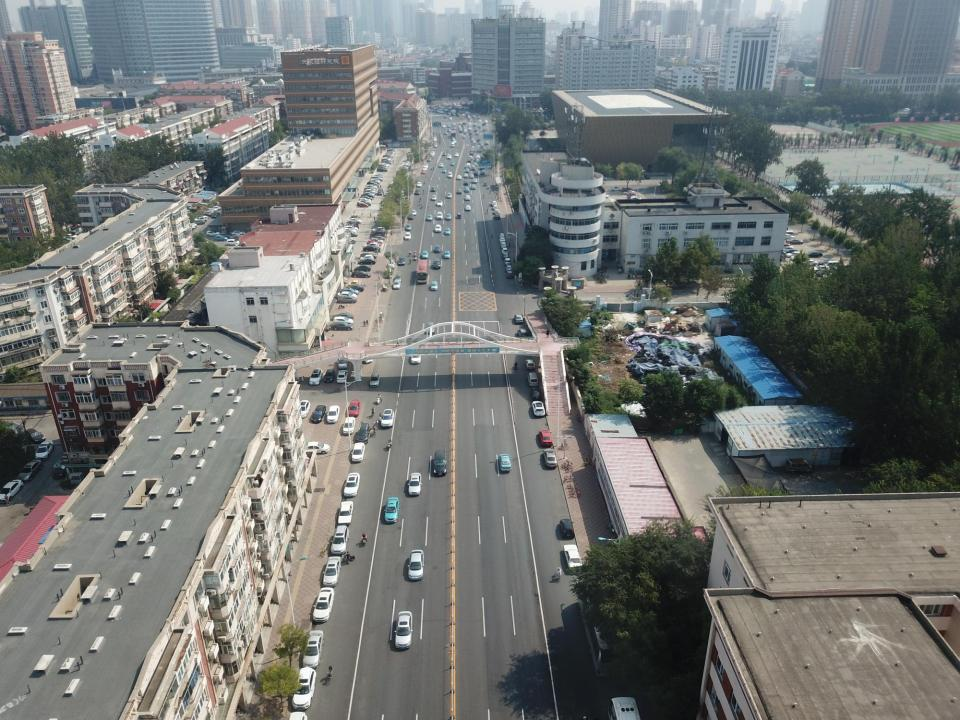bus: (574, 581, 634, 677), (415, 259, 428, 284)
car: (302, 630, 324, 668), (313, 587, 334, 622), (394, 611, 412, 649), (0, 480, 24, 503), (323, 556, 341, 586), (17, 460, 42, 481), (563, 544, 583, 570), (408, 550, 424, 580), (52, 458, 74, 478), (344, 472, 360, 497), (384, 497, 399, 523), (23, 428, 46, 444), (338, 501, 353, 525), (300, 442, 330, 454), (407, 472, 422, 495), (35, 441, 53, 459), (351, 442, 365, 462), (355, 348, 373, 363), (497, 454, 512, 472), (544, 448, 558, 467), (311, 405, 326, 422), (326, 405, 340, 423), (348, 399, 361, 417), (538, 430, 552, 446), (342, 417, 355, 434), (410, 346, 422, 363), (330, 322, 354, 330), (331, 312, 354, 320), (337, 355, 348, 369), (345, 284, 364, 292), (336, 370, 348, 382), (338, 296, 356, 304), (530, 387, 541, 400), (341, 288, 359, 295), (352, 271, 370, 278), (358, 258, 376, 265), (337, 292, 357, 298), (354, 265, 371, 272), (426, 322, 435, 334), (360, 253, 377, 259), (363, 246, 379, 252), (366, 240, 382, 246), (368, 238, 384, 244), (370, 234, 386, 240), (370, 236, 385, 242), (343, 231, 358, 237), (347, 218, 362, 224), (229, 234, 243, 240), (514, 314, 523, 323), (372, 226, 385, 232), (363, 190, 376, 196), (236, 232, 249, 238), (230, 231, 245, 236), (348, 280, 360, 286), (393, 280, 401, 289), (218, 232, 230, 238), (357, 201, 371, 206), (358, 199, 371, 204), (361, 193, 374, 198), (430, 282, 438, 290), (394, 274, 402, 282), (346, 240, 356, 246), (368, 180, 380, 185), (370, 178, 380, 184), (398, 257, 405, 265), (421, 251, 429, 258), (404, 232, 411, 240), (404, 224, 412, 231), (364, 186, 375, 191), (373, 173, 384, 178), (364, 192, 374, 197), (366, 184, 378, 188), (372, 175, 384, 179), (506, 265, 512, 272), (502, 254, 509, 260), (500, 243, 507, 249), (499, 237, 506, 243), (444, 251, 450, 258), (444, 228, 450, 235), (498, 233, 504, 239), (426, 214, 432, 220), (446, 192, 452, 198), (408, 213, 414, 219), (494, 214, 500, 219), (436, 201, 442, 206), (415, 189, 420, 195), (446, 214, 451, 219), (464, 187, 469, 192), (471, 184, 476, 189), (417, 182, 422, 187), (441, 168, 447, 172), (456, 175, 461, 179), (465, 168, 470, 172), (480, 169, 485, 173), (464, 180, 468, 184), (464, 173, 468, 177), (450, 161, 454, 165), (454, 153, 458, 157), (439, 162, 443, 166), (442, 152, 446, 156)
van: (292, 667, 316, 709), (331, 525, 349, 555), (433, 450, 447, 475), (559, 519, 575, 538), (356, 424, 371, 443), (379, 409, 394, 427), (296, 400, 311, 418), (309, 368, 323, 384), (532, 400, 545, 415), (333, 316, 353, 325), (324, 369, 335, 383), (369, 373, 380, 386), (528, 373, 538, 386), (525, 359, 535, 369), (370, 230, 386, 236), (370, 231, 385, 237), (342, 228, 357, 234), (517, 329, 527, 338), (363, 243, 380, 248), (360, 255, 374, 261), (214, 235, 228, 241), (226, 239, 240, 245), (432, 259, 441, 268), (360, 195, 372, 201), (370, 176, 382, 182), (344, 226, 358, 231), (360, 197, 371, 203), (366, 184, 377, 190), (366, 182, 379, 187), (206, 231, 219, 236), (506, 271, 514, 279), (357, 202, 369, 207), (364, 187, 376, 192), (504, 258, 511, 266), (366, 189, 376, 194), (501, 248, 508, 255), (436, 212, 443, 219), (435, 245, 441, 253), (435, 224, 441, 232), (377, 188, 383, 195), (465, 205, 471, 211), (447, 171, 453, 177), (494, 209, 500, 214), (493, 204, 498, 210), (492, 201, 498, 206), (431, 195, 437, 200), (456, 189, 462, 194), (447, 154, 452, 160), (472, 178, 477, 183), (411, 210, 416, 215), (457, 213, 461, 219), (465, 196, 471, 200), (430, 187, 436, 191), (469, 174, 474, 178), (474, 171, 478, 175)
